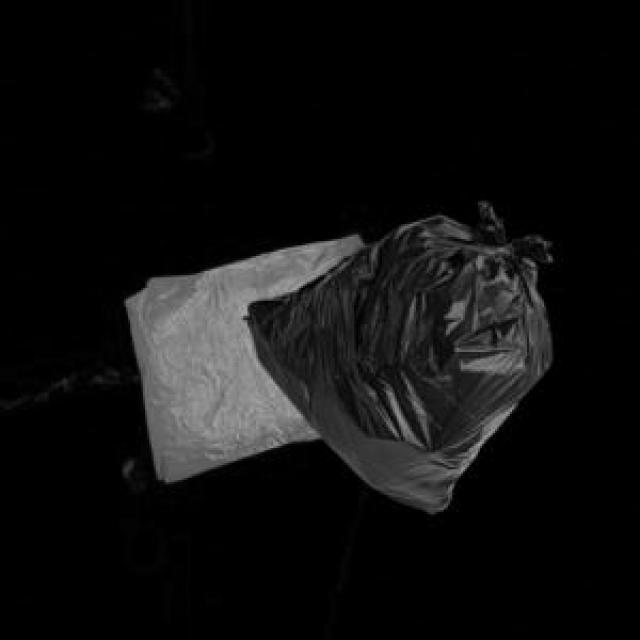miscellaneous trash: (239, 198, 546, 508)
